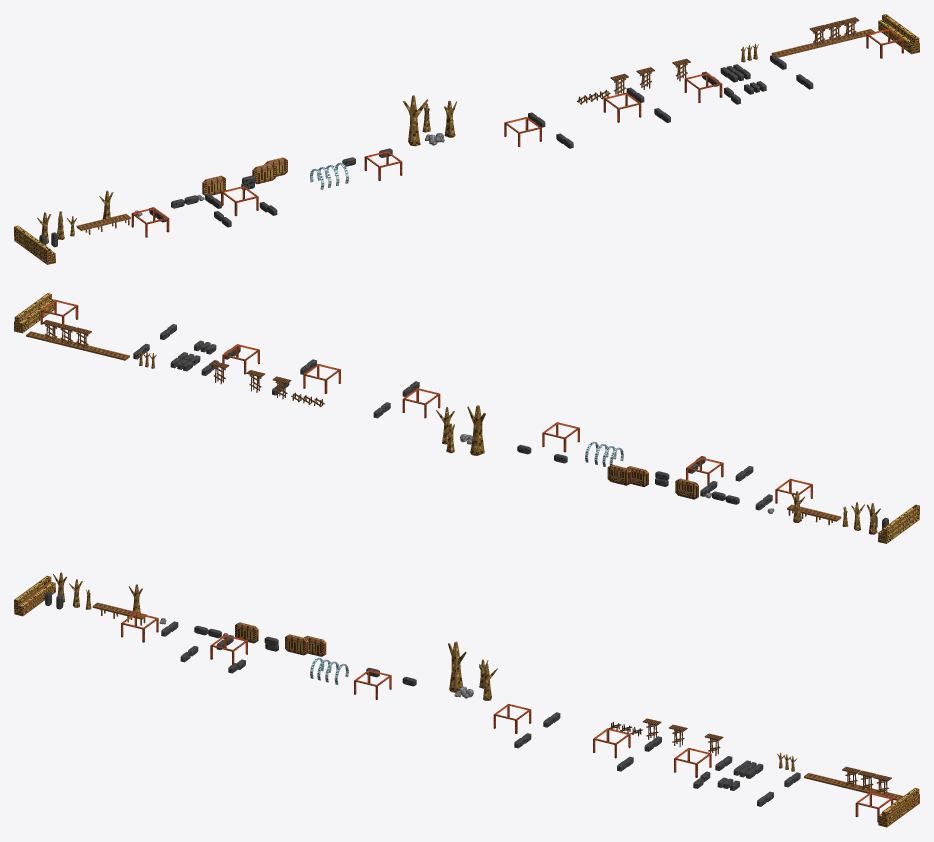
The model's file is Level01.glb.
The picture shows the model from 3 angles, top to bottom: view 1: azimuth 30°, elevation 25°; view 2: azimuth 150°, elevation 25°; view 3: azimuth 330°, elevation 25°; orthographic projection.
Visible parts, largest first — view 1: Cube.062; view 2: Cube.062; view 3: Cube.062.
Part boxes in pixels (bbox=[...]): Cube.062: bbox=[403, 95, 428, 146]; Cube.062: bbox=[467, 405, 485, 455]; Cube.062: bbox=[448, 641, 466, 692].
Bounding box in the file's own units: 400 × 20.74 × 48.06.
10 materials, 10 textured.
